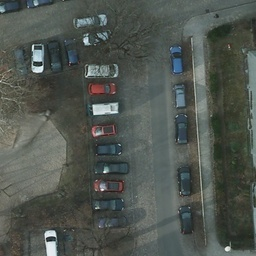car: (71, 11, 109, 27), (95, 215, 127, 231), (91, 197, 123, 213), (91, 177, 123, 193), (97, 159, 129, 175), (176, 166, 193, 196), (177, 206, 194, 236), (172, 115, 189, 145), (84, 62, 118, 76), (80, 30, 111, 45), (14, 46, 27, 80), (43, 229, 59, 256), (62, 229, 78, 256), (93, 142, 123, 156), (90, 123, 120, 137), (90, 101, 120, 115), (87, 82, 117, 96), (1, 48, 13, 82), (170, 45, 184, 74), (47, 39, 60, 69), (31, 44, 43, 73), (173, 82, 185, 108), (65, 39, 77, 65)
